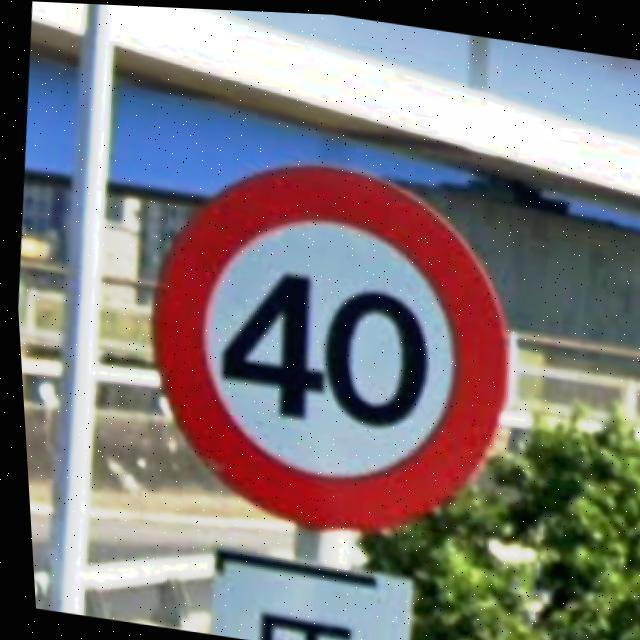max40: (114, 131, 536, 555)
